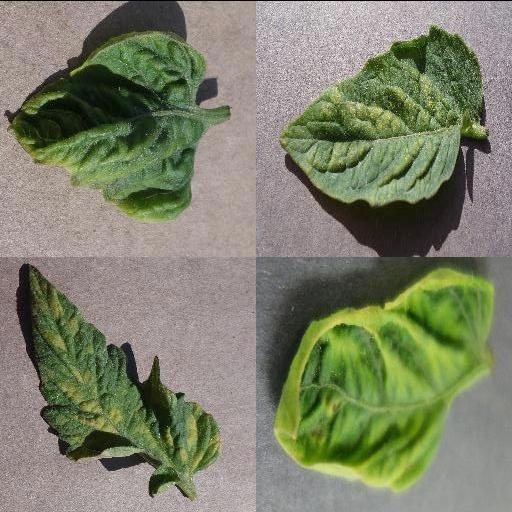Leaf Mold: (26, 265, 224, 497)
Spider Mites: (276, 24, 486, 204)
Yellow Leaf Curl Virus: (272, 266, 494, 490), (6, 29, 204, 221)
